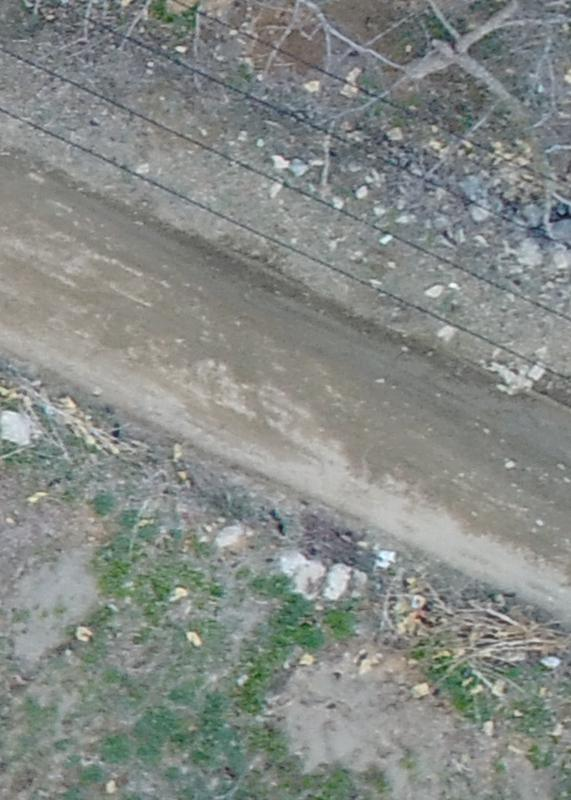apple: (281, 10, 561, 228)
